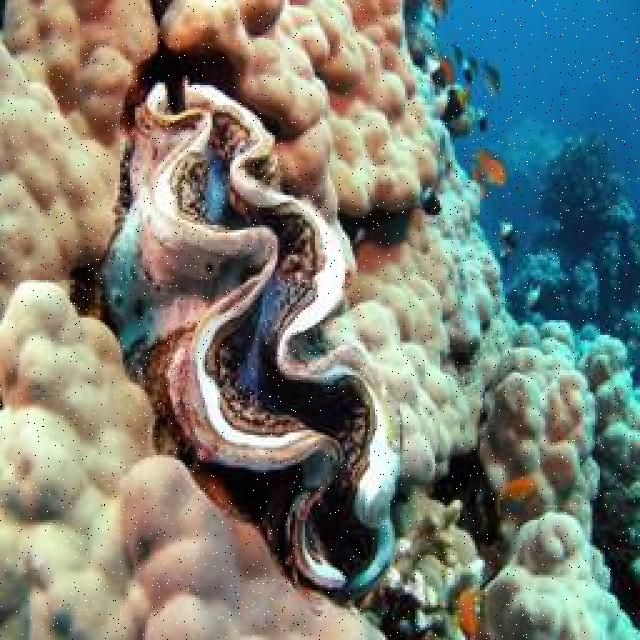reefs: (99, 76, 404, 604)
